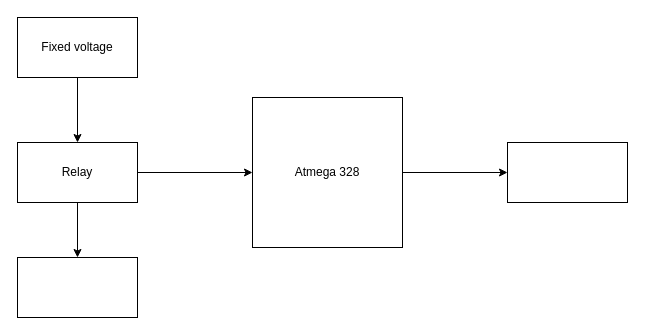
This 645x335 diagram has some shape labels left out. The shapes that lost their labels are listed below. From the top down, each one's centre as x and y in pixels, then its label:
At (567,172): "LEDs".
At (77,287): "Audio output".
